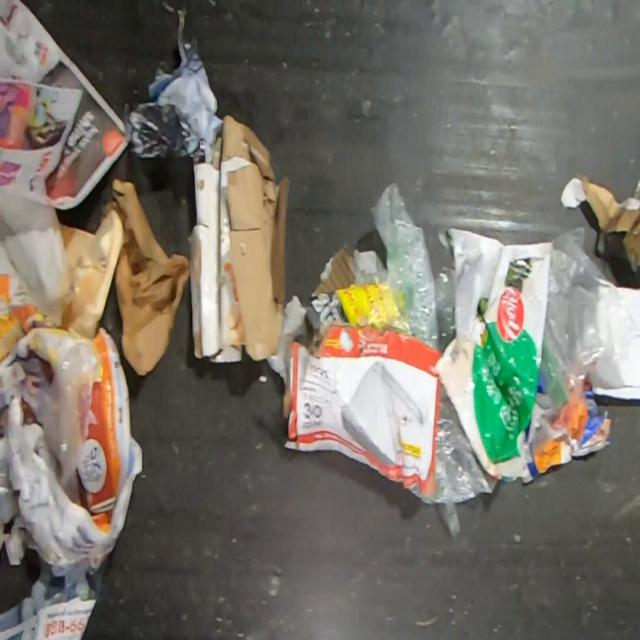cardboard: (282, 324, 441, 497), (186, 113, 290, 364), (559, 176, 640, 274), (304, 238, 383, 329)
soft_plastic: (428, 224, 553, 483), (540, 224, 640, 415), (349, 178, 455, 355), (418, 383, 500, 540), (33, 341, 101, 490)
